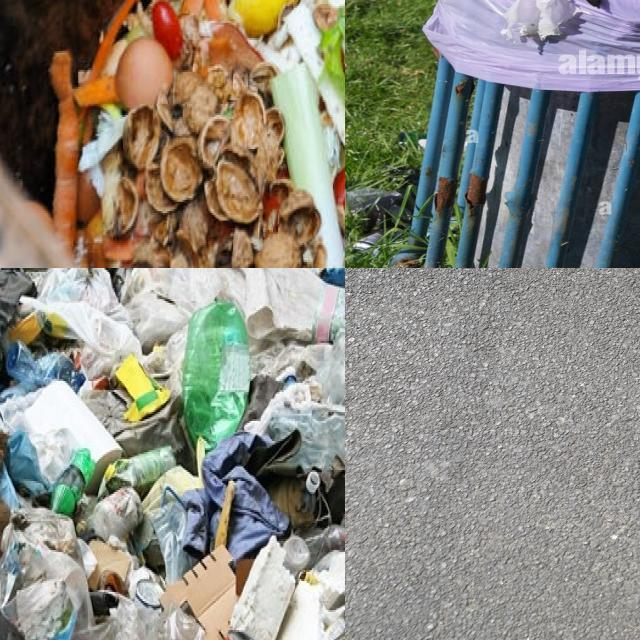Background: (345, 268, 640, 640)
Garbage: (0, 268, 345, 640), (50, 0, 345, 268)
Plastic_Bag: (345, 268, 640, 640), (22, 268, 142, 378), (254, 331, 345, 470), (0, 508, 94, 640), (121, 268, 246, 350), (81, 598, 206, 640), (99, 446, 176, 498), (0, 268, 34, 349), (94, 488, 142, 541)
Plastic_bottle: (182, 302, 250, 450), (6, 340, 85, 392), (51, 448, 96, 516), (317, 287, 345, 340), (283, 535, 310, 574)
